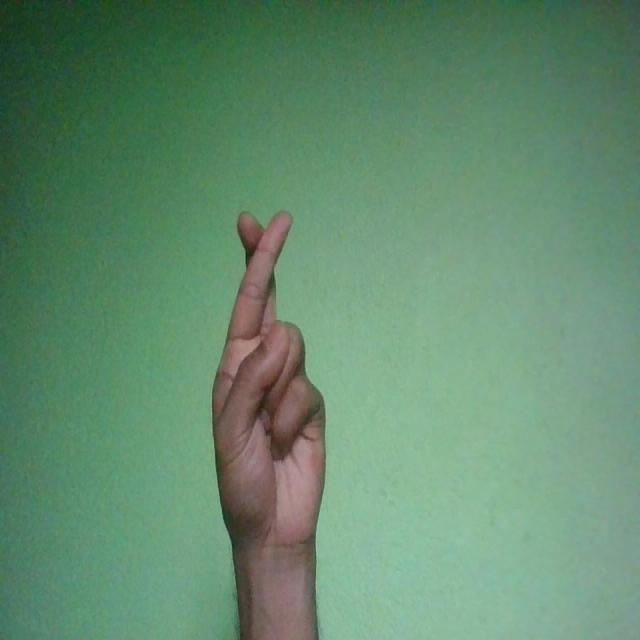Ok: (212, 211, 326, 556)
